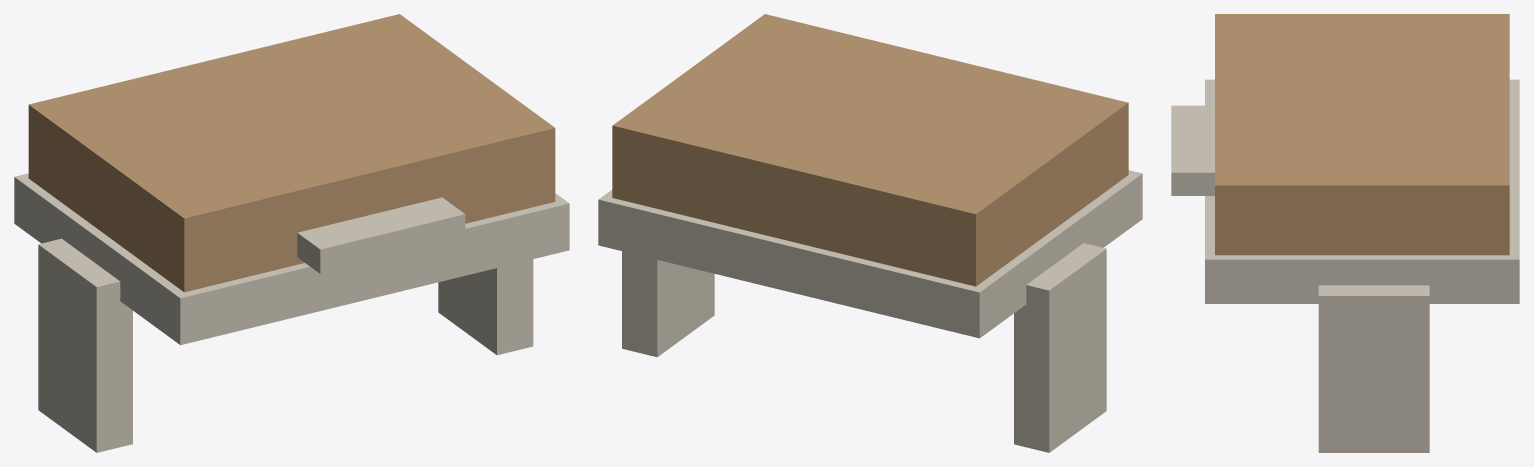
Rendered from hw-woolcap.glb.
The picture shows the model from 3 angles, left to right: view 1: azimuth 30°, elevation 25°; view 2: azimuth 150°, elevation 25°; view 3: azimuth 270°, elevation 25°; orthographic projection. The views are drawn at different scales.
Visible parts, largest first — view 1: REF_ushanka; view 2: REF_ushanka; view 3: REF_ushanka.
Boxes of the visible parts, x1,y1,x2,y2 form: REF_ushanka: [14, 14, 569, 452]; REF_ushanka: [598, 14, 1142, 452]; REF_ushanka: [1171, 14, 1519, 452].
Bounding box in the file's own units: 0.54 × 0.3153 × 0.3942.
